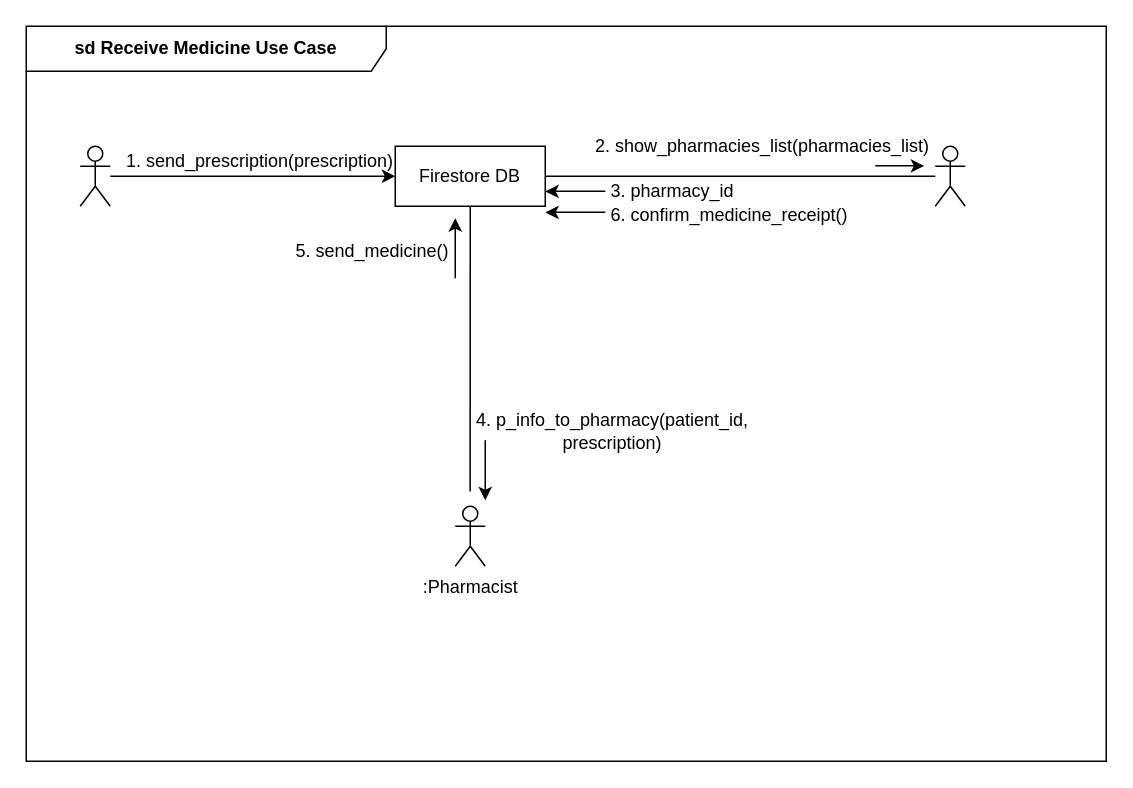
Some shapes in this 1133 by 788 pixel diagram are drawn without their labels. The shapes that lost their labels are listed below. From the top down, each one's centre as x and y in pixels, then its label:
At (94,175): ":Doctor".
At (949,175): ":Pateint".
